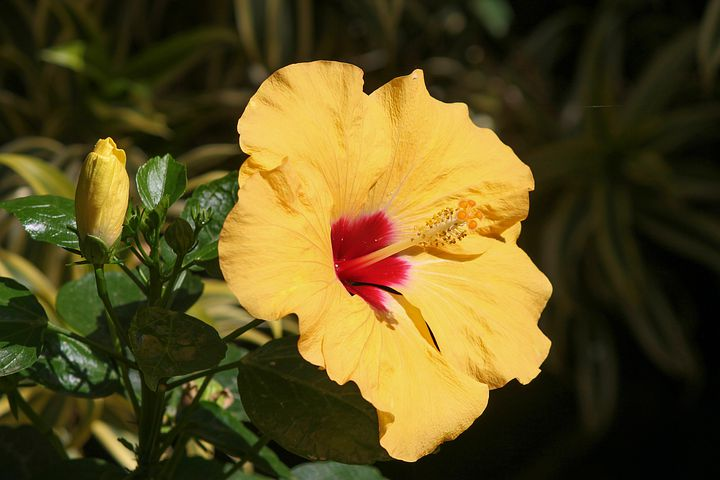Hibiscus: (228, 41, 601, 465), (55, 117, 139, 284)
